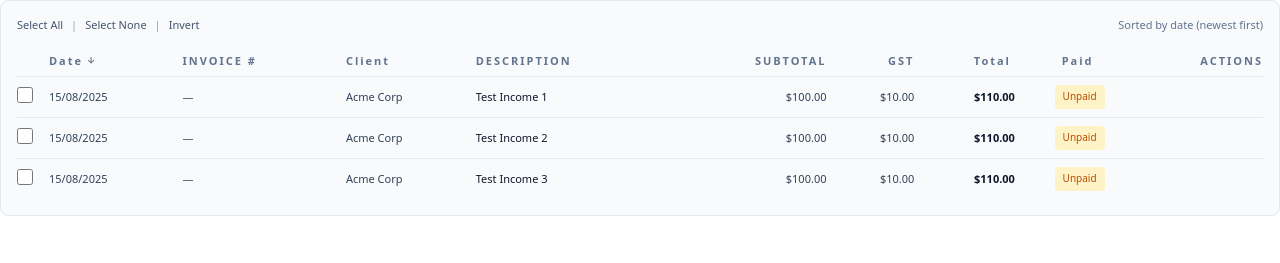
Test: IncomesTable › Bulk Operations › shows selected count in toolbar
Click the checkbox named "select income" at (25, 95), box [17,87,33,103]
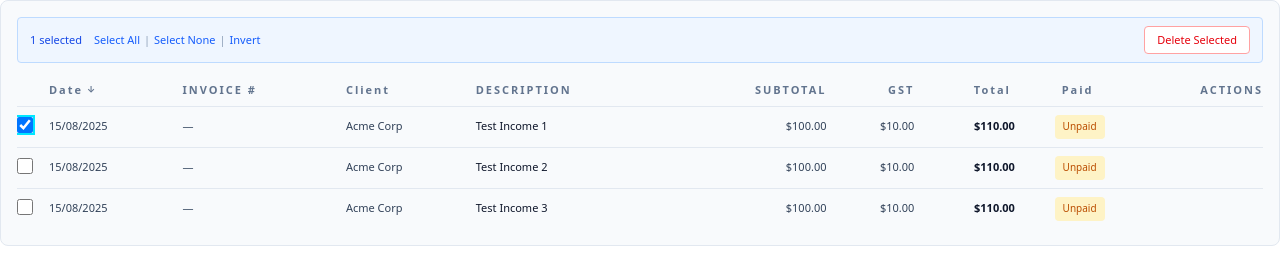
Click the checkbox named "select income" at (25, 166), box [17,158,33,174]
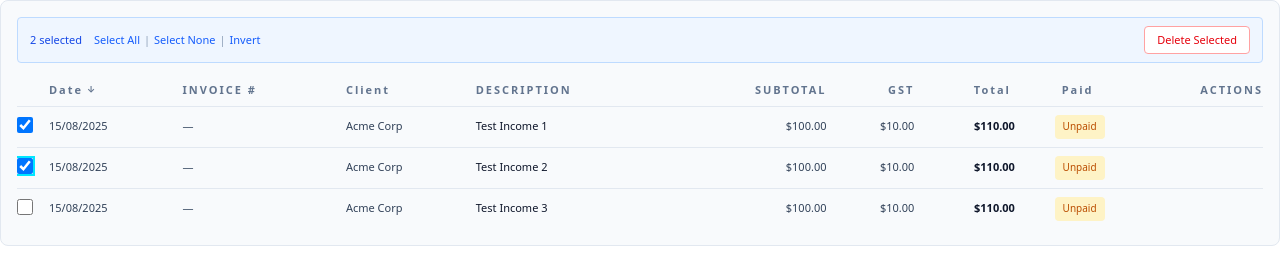
Result: the text "2 selected" is shown at [30,32,82,48]
